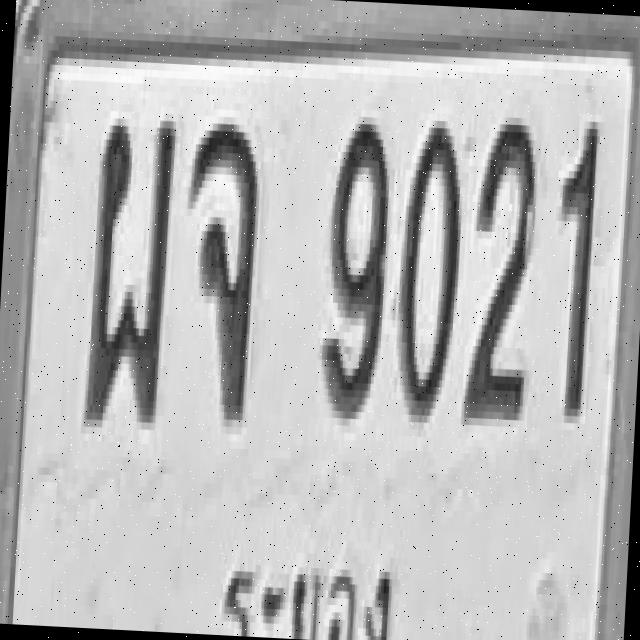0: (392, 112, 467, 424)
1: (550, 117, 600, 420)
17ChorChan: (178, 116, 262, 420)
2: (463, 116, 539, 421)
37PhorPhueng: (84, 114, 176, 427)
9: (319, 116, 393, 420)
Rayong: (217, 541, 401, 640)
